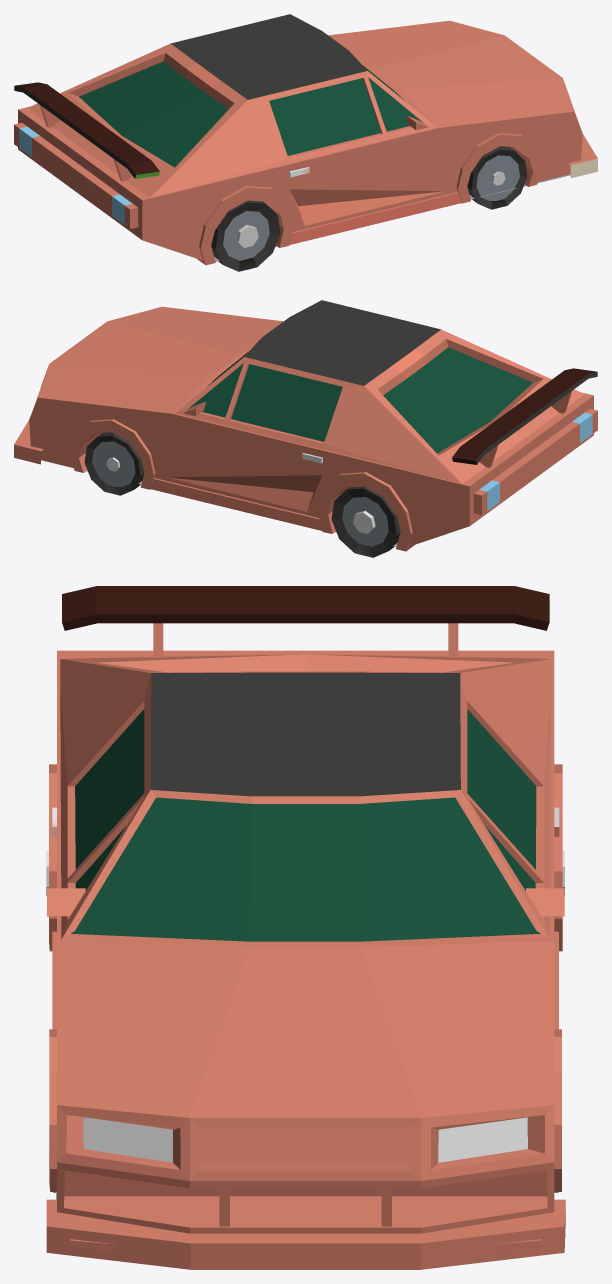
The model's file is transport_04.fbx.
3 renders of one model, top to bottom at view 1: azimuth 30°, elevation 25°; view 2: azimuth 150°, elevation 25°; view 3: azimuth 270°, elevation 25°, orthographic. The views are drawn at different scales.
Parts seen in each view (by area): view 1: transport_04; view 2: transport_04; view 3: transport_04.
Part boxes in pixels (x1,y1,x2,y2): transport_04: (14, 14, 597, 271); transport_04: (14, 300, 597, 557); transport_04: (46, 586, 565, 1269).
Bounding box in the file's own units: 257 × 121 × 74.45.
